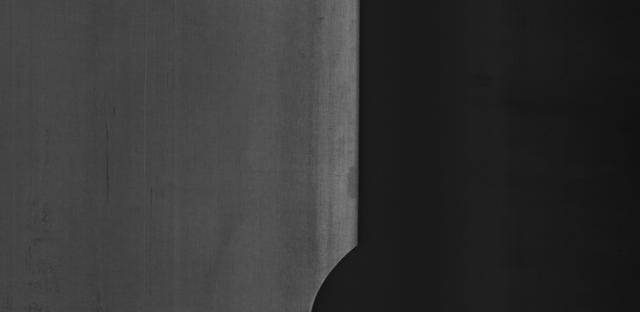crescent_gap: (296, 239, 376, 312)
